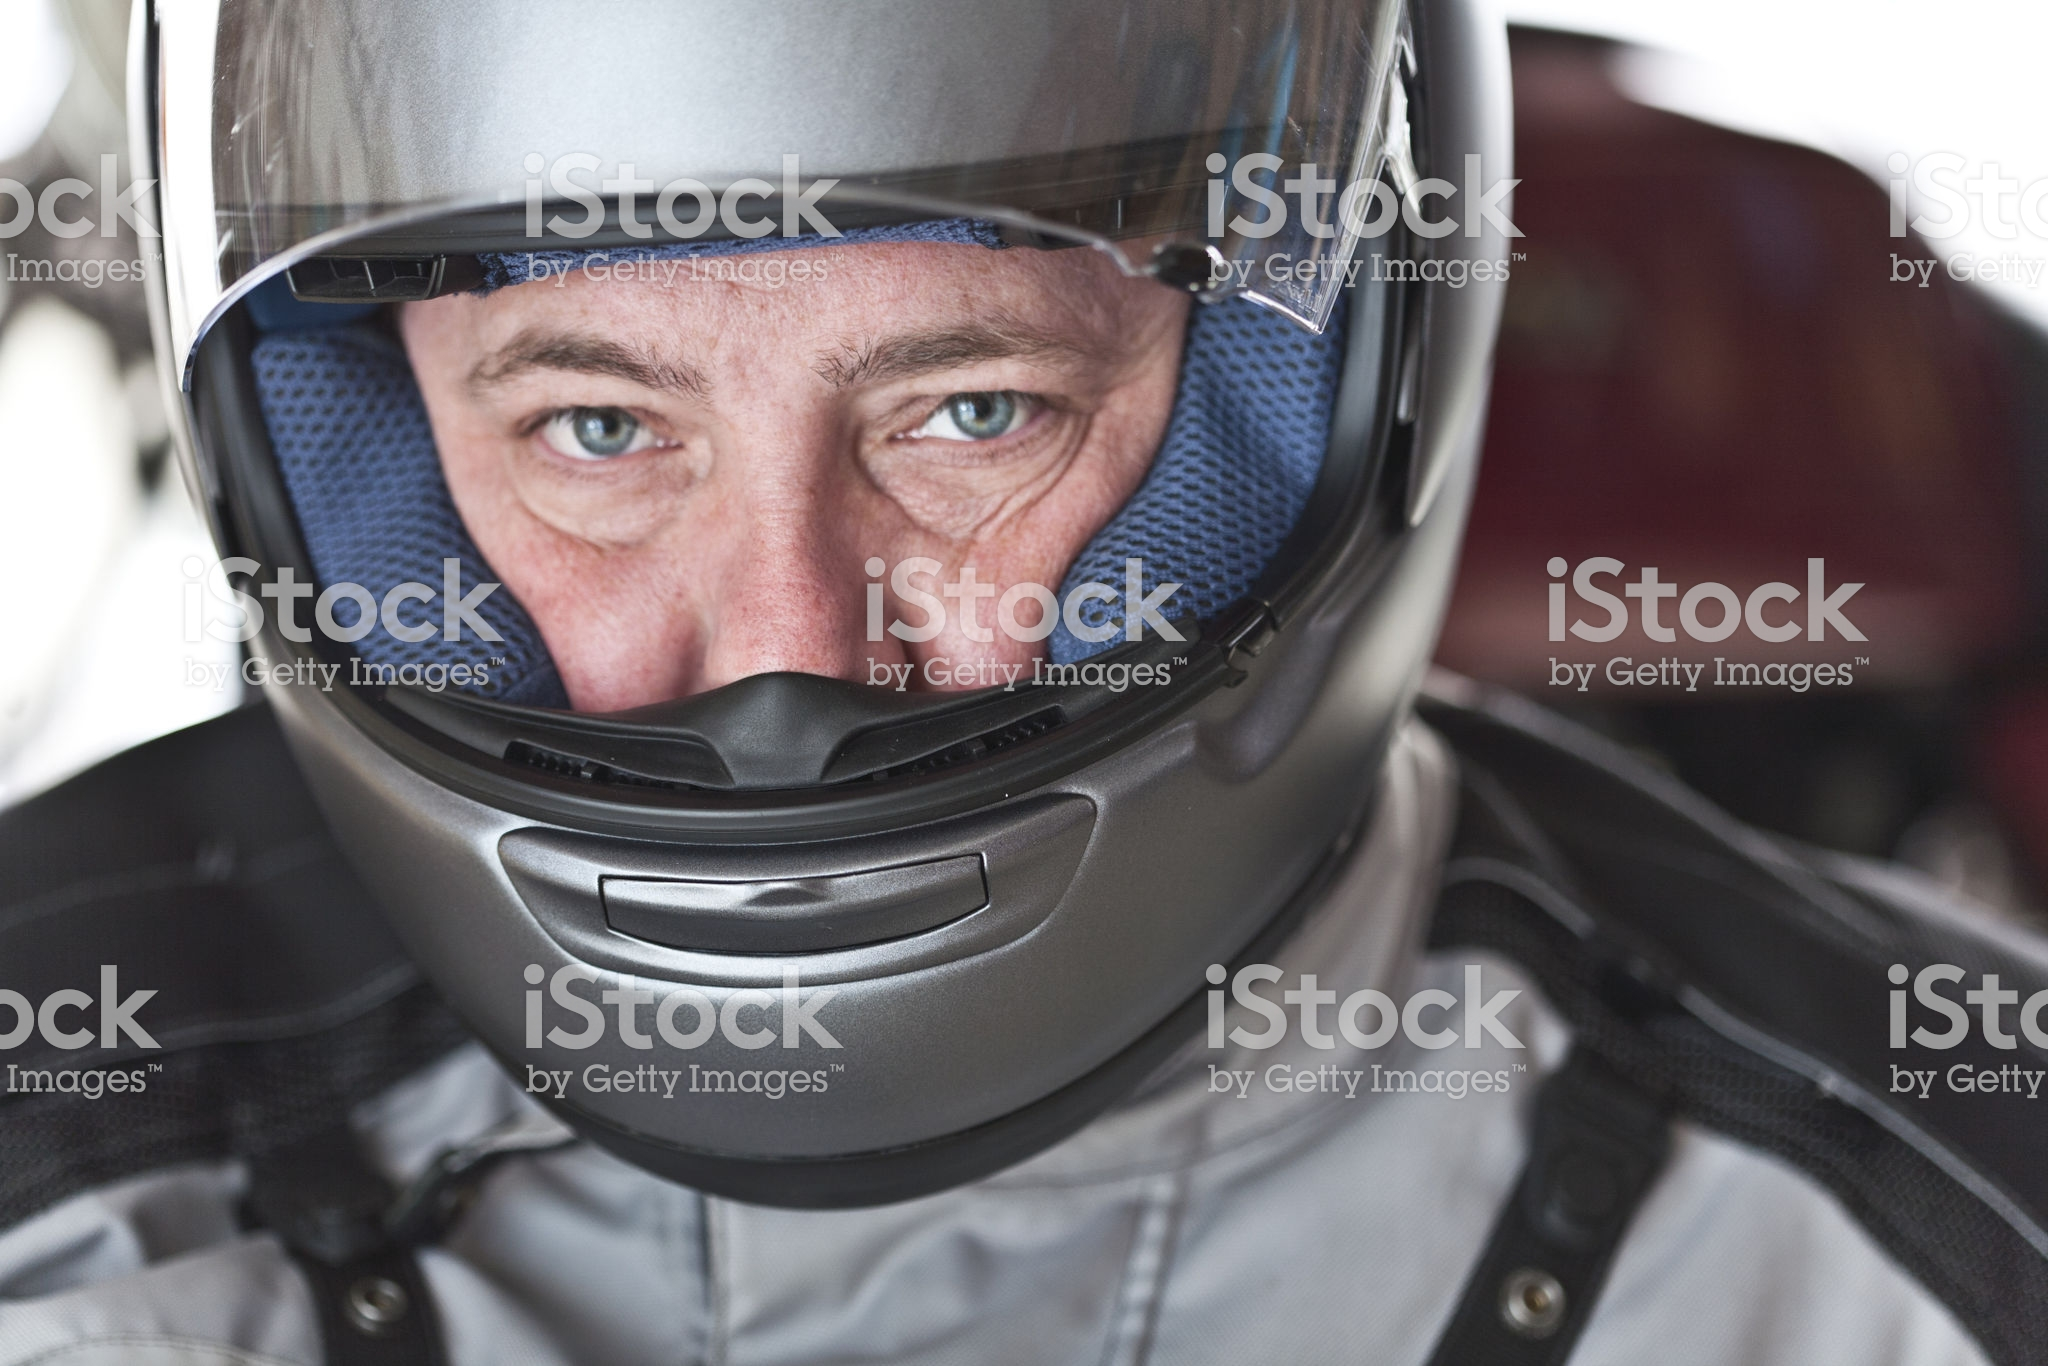helmet: (140, 15, 1536, 1111)
